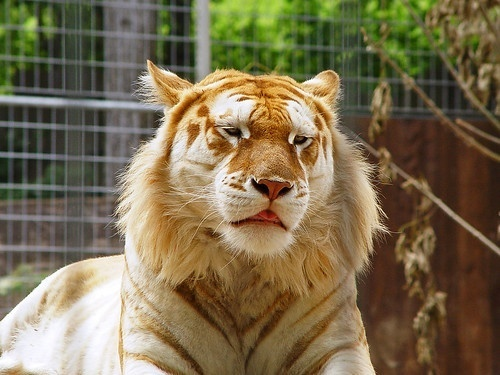tigre: (9, 66, 362, 375)
